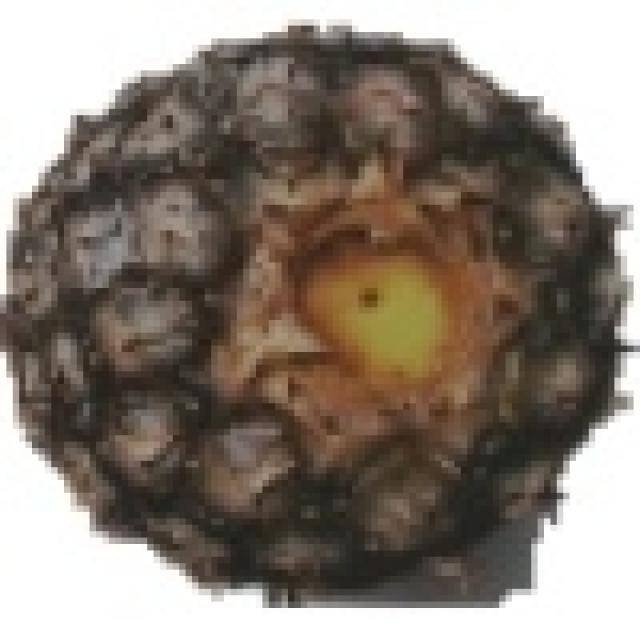pineapple: (6, 19, 608, 589)
